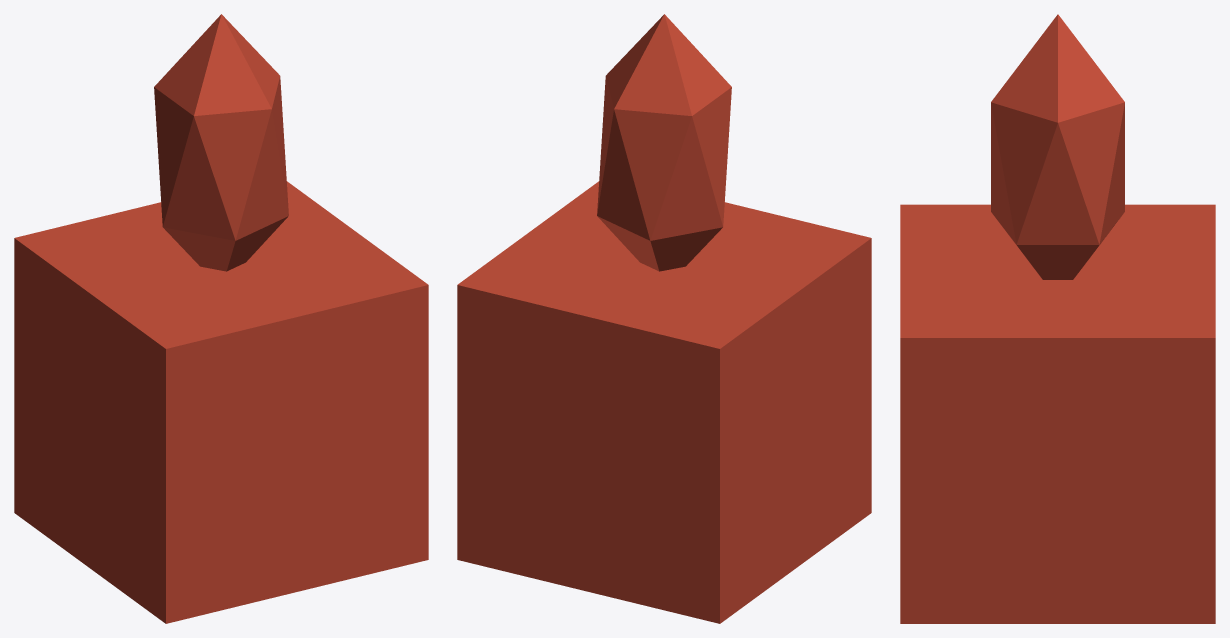
The model's file is pipeline_test.glb.
3 views of the same model, side by side, from view 1: azimuth 30°, elevation 25°; view 2: azimuth 150°, elevation 25°; view 3: azimuth 270°, elevation 25° (orthographic). The views are drawn at different scales.
Parts seen in each view (by area): view 1: BOX, CAPSULE; view 2: BOX, CAPSULE; view 3: BOX, CAPSULE.
Boxes of the visible parts, x1,y1,x2,y2 form: BOX: (14,181,428,623); CAPSULE: (154,14,288,271); BOX: (457,181,871,623); CAPSULE: (597,14,731,271); BOX: (900,204,1215,623); CAPSULE: (991,14,1124,279).
Size of the model in its own units: 0.5 by 0.95 by 0.5.
